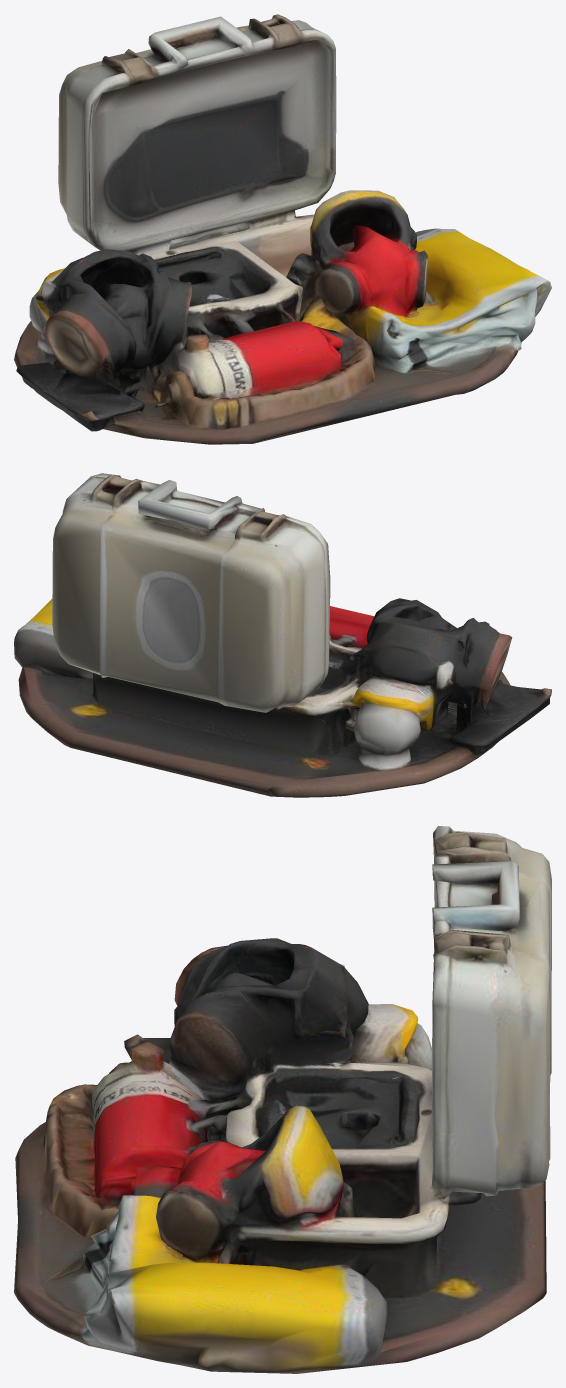
File: Meshy_AI_Emergency_Gear_balanced.glb
3 views of the same model, one above another, from view 1: azimuth 30°, elevation 25°; view 2: azimuth 150°, elevation 25°; view 3: azimuth 270°, elevation 25° (orthographic). The views are drawn at different scales.
Bounding box in the file's own units: 2 × 1.08 × 1.48.
Materials: 1 (1 with a texture image).
